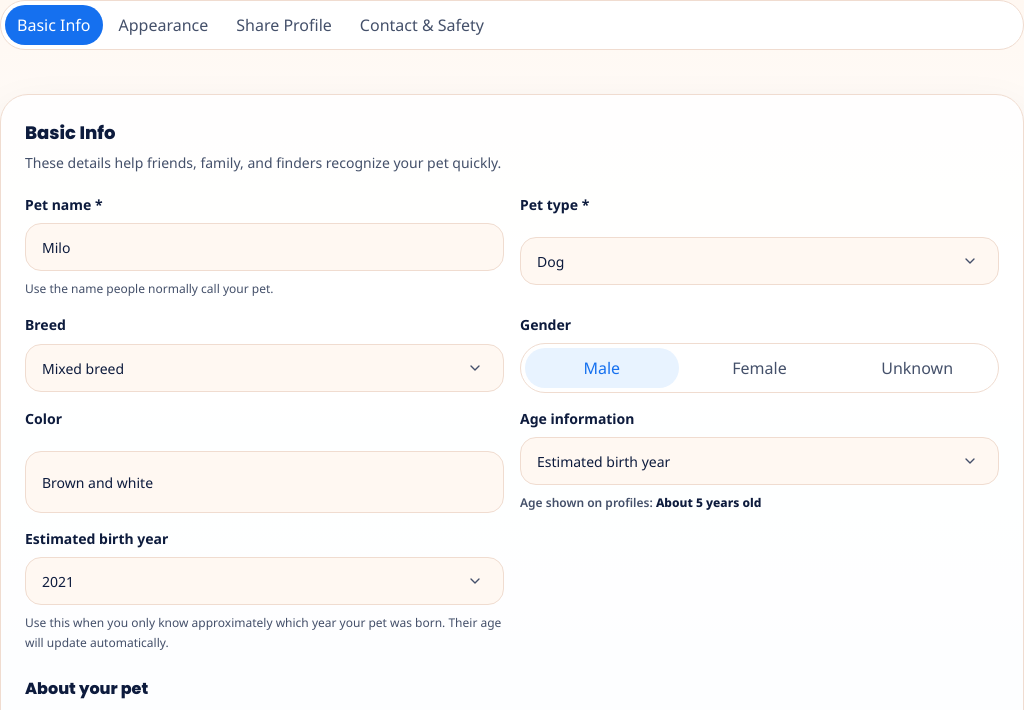
Scenario: PetProfileForm lifecycle workflow › shows neutral contact-summary values instead of a fake location
The image size is (1024, 710).
Click the tab "Contact & Safety" at (422, 25), box [348,5,496,45]
(page scrolled)
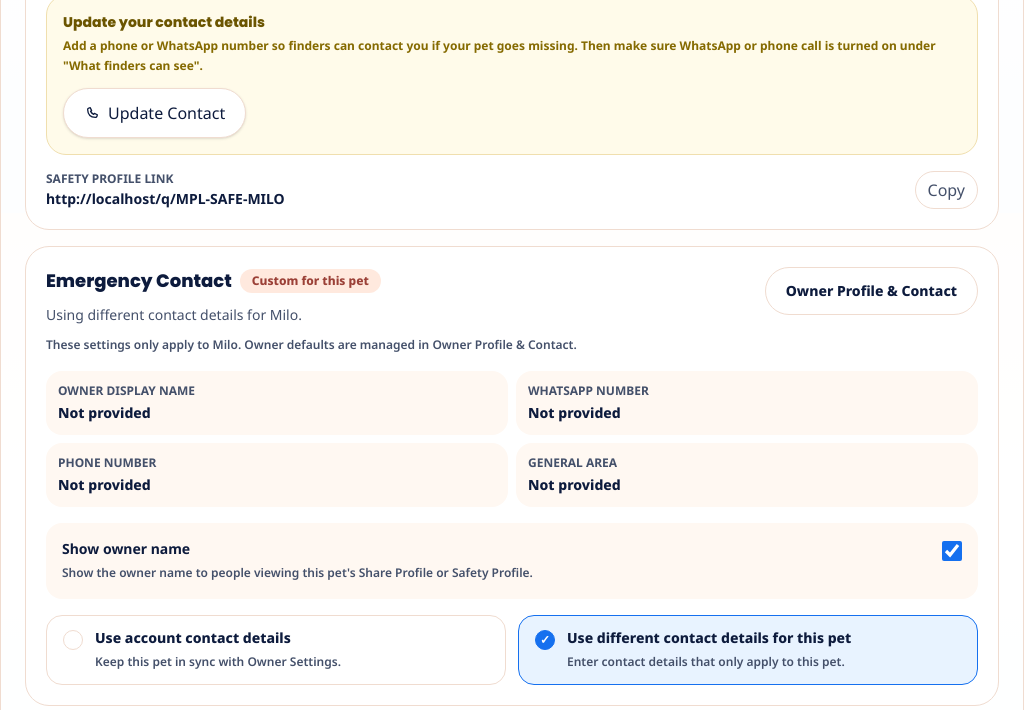
Now the element "Emergency Contact" is shown
Now the text "Not provided" is shown 4 times, box [58,403,151,422]; [528,403,621,422]; [58,475,151,494]; [528,475,621,494]
